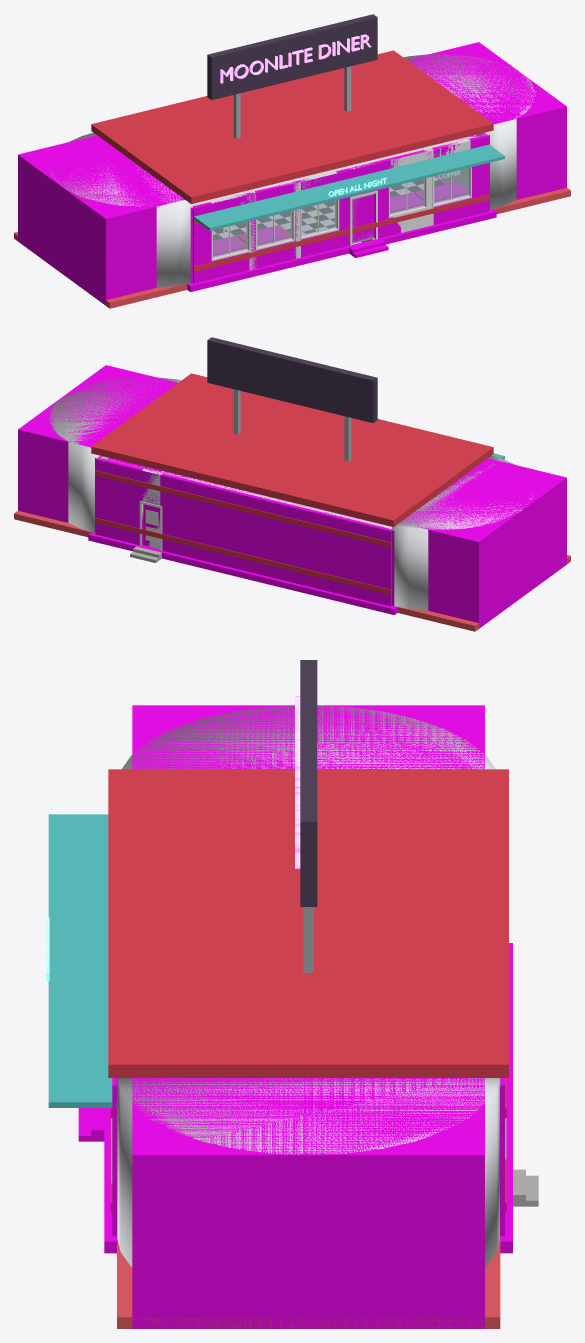
Rendered from diner.glb.
The picture shows the model from 3 angles, top to bottom: view 1: azimuth 30°, elevation 25°; view 2: azimuth 150°, elevation 25°; view 3: azimuth 270°, elevation 25°; orthographic projection. The views are drawn at different scales.
Visible parts, largest first — view 1: Diner_RoofCap, COL_Diner_End_-1, COL_Diner_End_1, Diner_SignBoard, Diner, Diner_Awning, Diner_End_-1, Diner_Front_Trim, COL_Diner_Base, Diner_Front, Diner_Stripes, Diner_Neon (+24 smaller); view 2: Diner_RoofCap, COL_Diner_End_-1, COL_Diner_Back_0, COL_Diner_End_1, Diner_SignBoard, Diner, Diner_End_-1, Diner_Stripes, COL_Diner_Back_2, COL_Diner_Base, Diner_EndBase_-1, Diner_SignPosts (+3 smaller); view 3: Diner_RoofCap, COL_Diner_End_1, Diner, COL_Diner_End_-1, Diner_Awning, Diner_End_-1, Diner_SignBoard, COL_Diner_Base, Diner_Neon.
Part boxes in pixels (x1,y1,x2,y2): Diner_RoofCap: [91, 50, 493, 203]; COL_Diner_End_-1: [18, 135, 184, 305]; COL_Diner_End_1: [407, 42, 566, 199]; Diner_SignBoard: [207, 14, 377, 100]; Diner: [403, 54, 570, 214]; Diner_Awning: [193, 144, 504, 230]; Diner_End_-1: [51, 132, 192, 287]; Diner_Front_Trim: [211, 167, 471, 261]; COL_Diner_Base: [187, 176, 496, 291]; Diner_Front: [210, 139, 470, 269]; Diner_Stripes: [193, 194, 489, 271]; Diner_Neon: [220, 34, 371, 83]; Diner_RoofCap: [91, 373, 493, 526]; COL_Diner_End_-1: [401, 458, 566, 628]; COL_Diner_Back_0: [160, 473, 391, 606]; COL_Diner_End_1: [18, 365, 177, 522]; Diner_SignBoard: [207, 337, 377, 423]; Diner: [14, 377, 181, 537]; Diner_End_-1: [392, 455, 533, 610]; Diner_Stripes: [95, 470, 391, 594]; COL_Diner_Back_2: [96, 458, 143, 545]; COL_Diner_Base: [88, 532, 397, 614]; Diner_EndBase_-1: [397, 555, 570, 631]; Diner_SignPosts: [233, 389, 351, 461]; Diner_RoofCap: [108, 769, 508, 1077]; COL_Diner_End_1: [132, 1078, 484, 1328]; Diner: [117, 1078, 500, 1328]; COL_Diner_End_-1: [132, 705, 484, 769]; Diner_Awning: [48, 814, 116, 1107]; Diner_End_-1: [122, 705, 495, 769]; Diner_SignBoard: [300, 660, 317, 906]; COL_Diner_Base: [104, 943, 512, 1253]; Diner_Neon: [295, 696, 300, 868].
Size of the model in its own units: 25 by 9.4 by 11.56.
